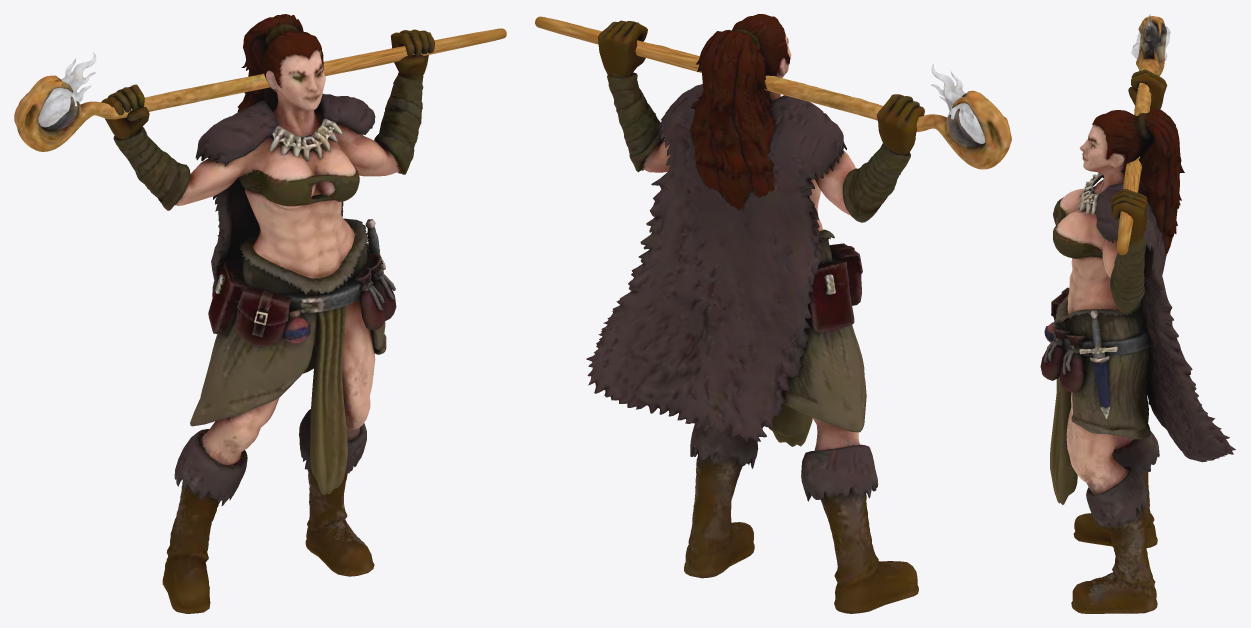
Rendered from MZ4250 - Arch Druid Female_hum2_Moon.glb.
3 views of the same model, side by side, from view 1: azimuth 30°, elevation 25°; view 2: azimuth 150°, elevation 25°; view 3: azimuth 270°, elevation 25° (orthographic). The views are drawn at different scales.
Visible parts, largest first — view 1: Moon; view 2: Moon; view 3: Moon.
Part boxes in pixels (box(x1,y1,x2,y2)): Moon: box(14, 14, 506, 613); Moon: box(535, 14, 1011, 613); Moon: box(1040, 14, 1235, 613).
Bounding box in the file's own units: 1872 × 2083 × 755.
Materials: 2 (2 with a texture image).
